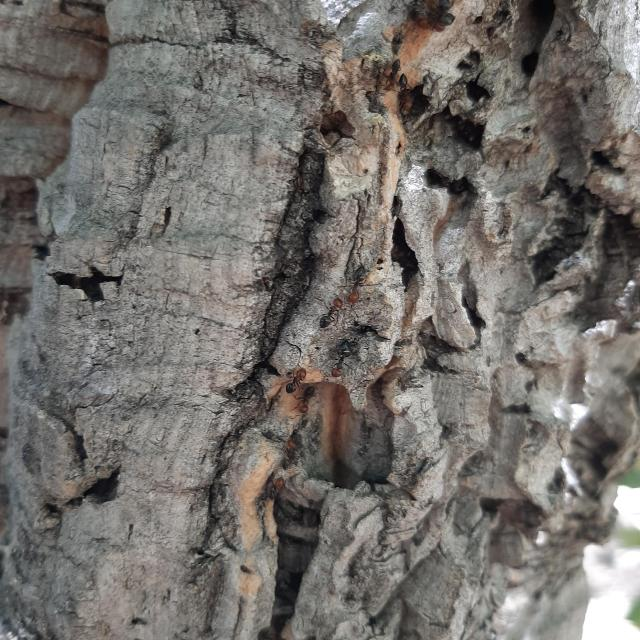Crematogaster: (312, 295, 346, 327), (345, 259, 367, 307), (332, 335, 356, 377), (393, 70, 413, 118), (256, 472, 286, 503), (283, 364, 307, 400), (379, 54, 399, 96), (294, 382, 316, 413), (280, 434, 300, 466)
